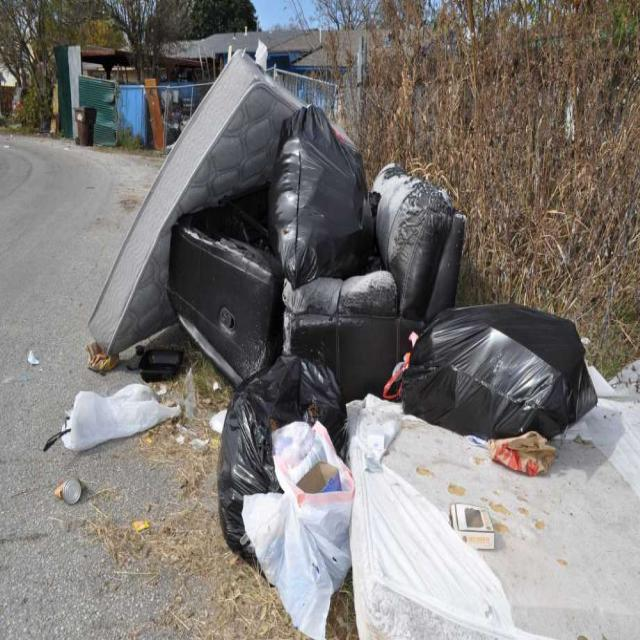garbage: (216, 339, 356, 631), (382, 298, 602, 475), (269, 104, 376, 285), (50, 381, 173, 450), (446, 497, 501, 554)
